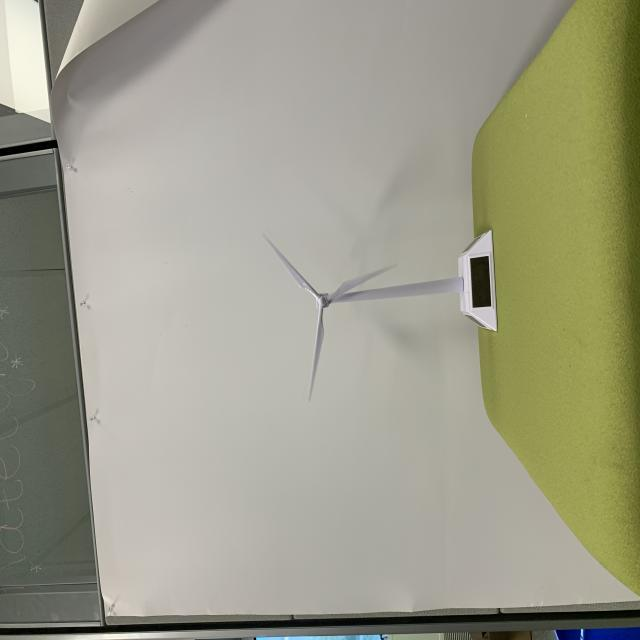solid-blade: (266, 236, 320, 300), (330, 266, 396, 299), (310, 309, 324, 399)
